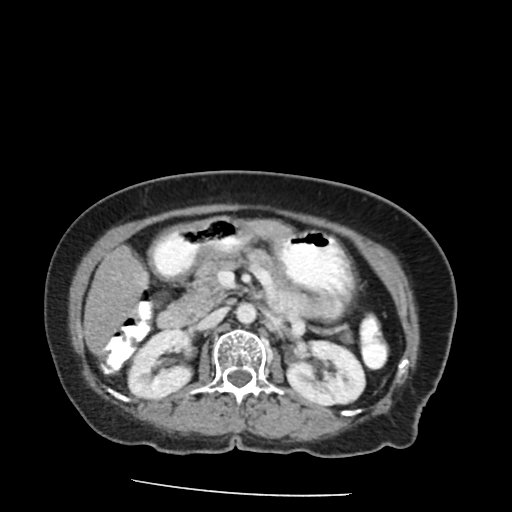aorta: (236, 258, 302, 324)
